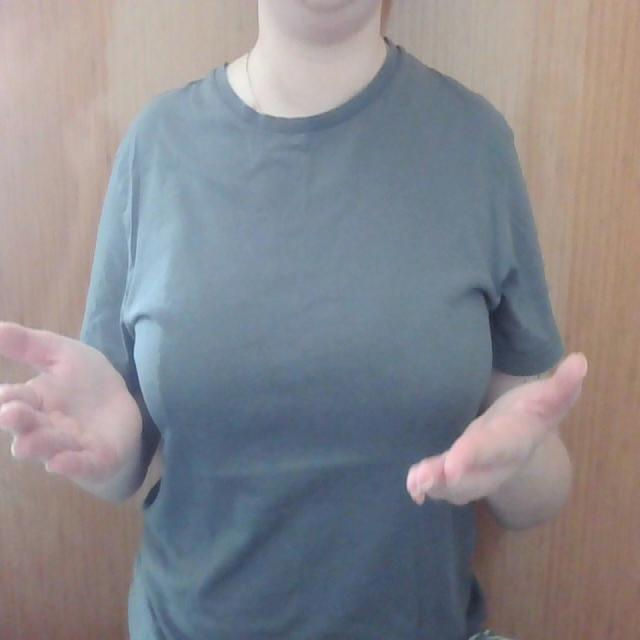Evet: (0, 314, 590, 514)
